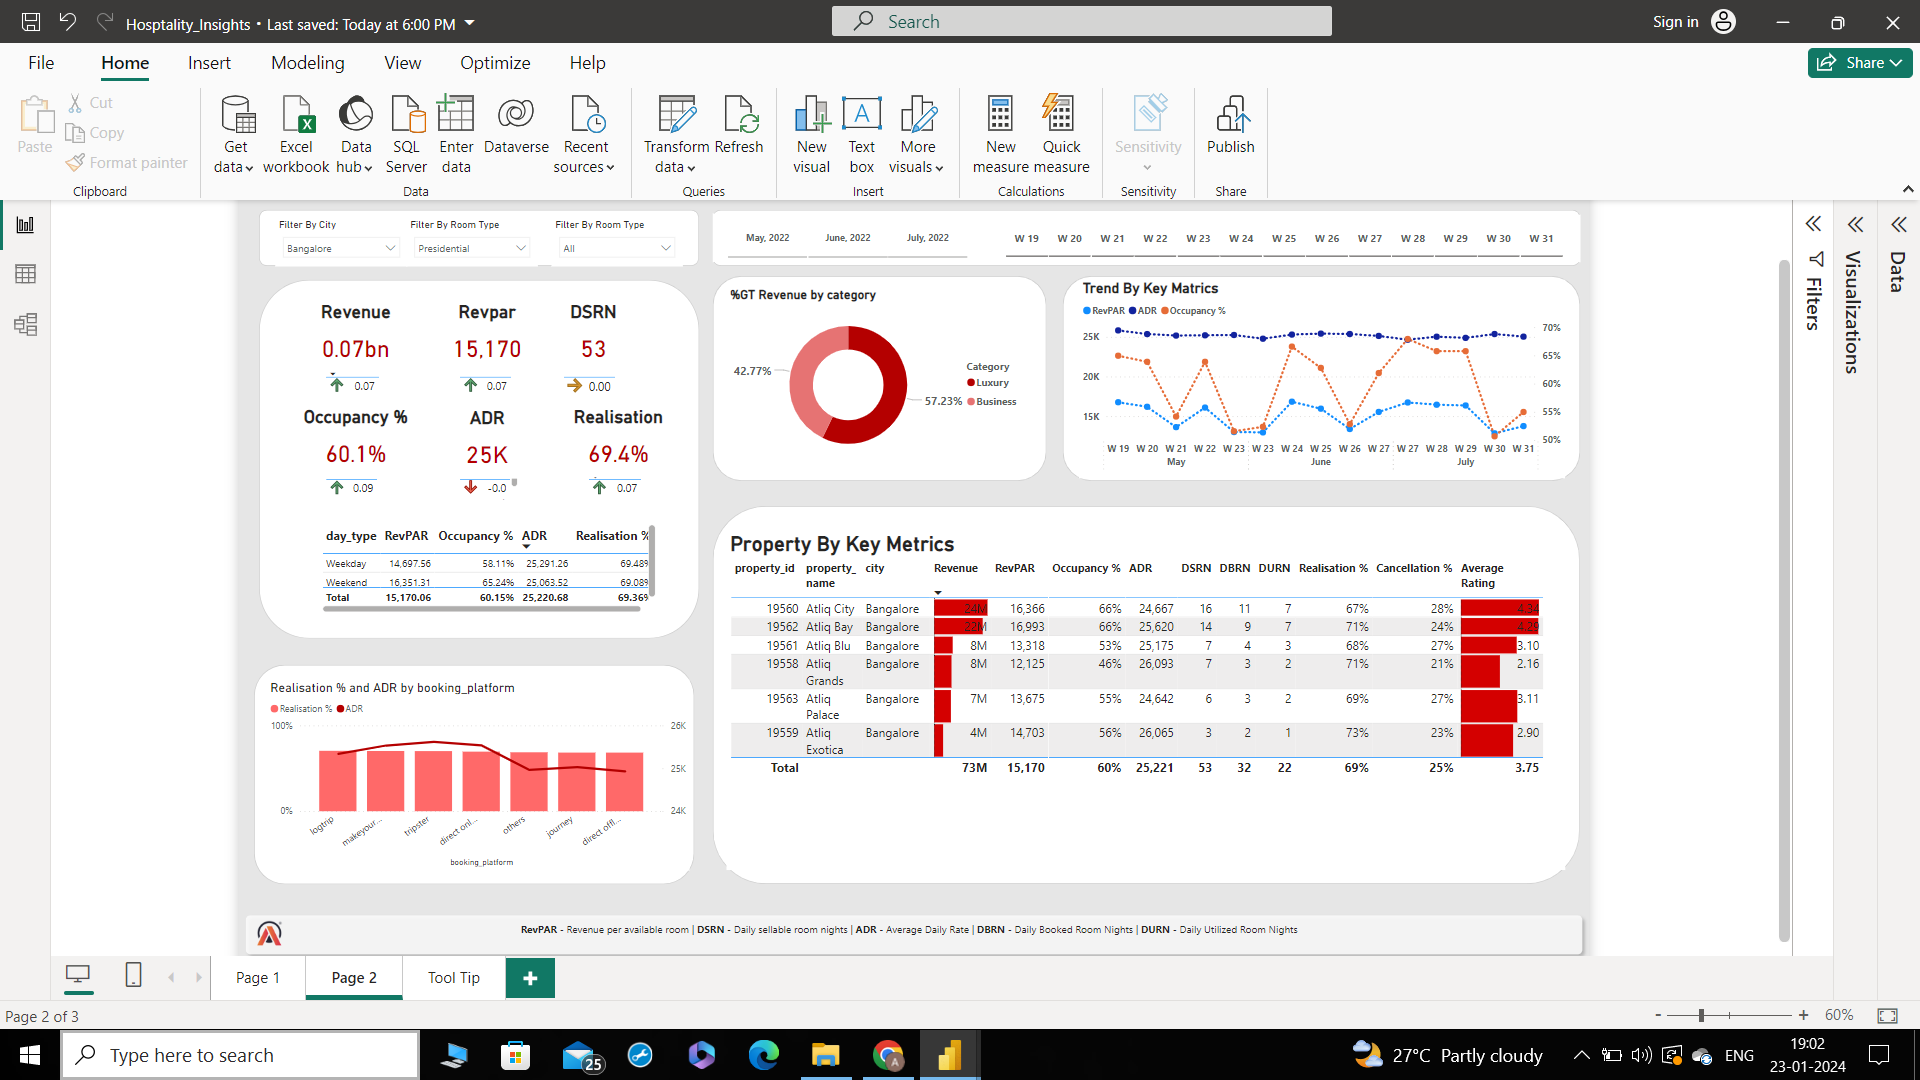

The page's visual inventory and layout, read from the dashboard file:
{"tool":"powerbi","page":{"name":"Page 2","canvas":[1800,1100],"ordinal":1},"visuals":[{"type":"shape","box":[0,1016,1800,70],"z":0},{"type":"shape","box":[20,691.4,587.1,292.9],"z":1000},{"type":"shape","box":[632,480,1156,504],"z":2000},{"type":"shape","box":[1098.3,173.3,690,273.3],"z":3000},{"type":"shape","box":[631.7,173.3,445,273.3],"z":4000},{"type":"shape","box":[631.7,85,1156.7,75],"z":5000},{"type":"shape","box":[27.1,178.6,587.1,478.6],"z":6000},{"type":"shape","box":[26.7,85,586.7,75],"z":7000},{"type":"tableEx","title":"Property By Key Metrics","fields":{"Values":["dim_hotels.property_id","dim_hotels.property_name","dim_hotels.city","key_measures (2).Revenue","key_measures (2).RevPAR","key_measures (2).Occupancy %","key_measures (2).ADR","key_measures (2).DSRN","key_measures (2).DBRN","key_measures (2).DURN","key_measures (2).Realisation %","key_measures (2).Cancellation %"]},"box":[650,515.7,1118.6,450],"z":8000},{"type":"slicer","title":"Filter By City","fields":{"Values":["dim_hotels.city"]},"box":[48,96,176,64],"z":9000},{"type":"slicer","title":"Filter By Room Type","fields":{"Values":["dim_rooms.room_class"]},"box":[417,96,175,64],"z":10000},{"type":"slicer","fields":{"Values":["dim_date.mmm yy"]},"box":[631.7,90,358.3,65],"z":11000},{"type":"slicer","fields":{"Values":["dim_date.week no"]},"box":[996.7,91.7,791.7,63.3],"z":12000},{"type":"tableEx","fields":{"Values":["key_measures (2).\"Revenue WoW change %"]},"box":[110.8,281.5,88.5,57.7],"z":13000},{"type":"donutChart","fields":{"Category":["dim_hotels.category"],"Y":["key_measures (2).Revenue"]},"box":[650,188.3,405,241.7],"z":14000},{"type":"lineStackedColumnComboChart","fields":{"Category":["fact_bookings.booking_platform"],"Y":["key_measures (2).Realisation %"],"Y2":["key_measures (2).ADR"]},"box":[37.1,711.4,564.3,254.3],"z":15000},{"type":"lineChart","title":"Trend By Key Matrics","fields":{"Category":["dim_date.mmm yy.Variation.Date Hierarchy.Month","dim_date.week no"],"Y2":["key_measures (2).Occupancy %"],"Y":["key_measures (2).RevPAR","key_measures (2).ADR"]},"box":[1120,178.3,648.3,265],"z":16000},{"type":"tableEx","fields":{"Values":["dim_date.day_type","key_measures (2).RevPAR","key_measures (2).Occupancy %","key_measures (2).ADR","key_measures (2).Realisation %"]},"box":[105,500,455,126.7],"z":17000},{"type":"slicer","title":"Filter By Room Type","fields":{"Values":["dim_rooms.room_class"]},"box":[224,96,175,64],"z":18000},{"type":"image","box":[0,1028,81.3,42.7],"z":20000},{"type":"textbox","box":[345,1029.6,1093.6,39],"z":21000},{"type":"tableEx","fields":{"Values":["key_measures (2).\"DSRN WoW change %"]},"box":[426.9,281.5,88.5,56.2],"z":22000},{"type":"tableEx","fields":{"Values":["key_measures (2).\"Revpar WoW change %"]},"box":[287.7,281.5,89.2,55.4],"z":23000},{"type":"card","title":"DSRN","fields":{"Values":["key_measures (2).DSRN"]},"box":[384.3,206.8,175,95],"z":24000},{"type":"card","title":"Revpar","fields":{"Values":["key_measures (2).RevPAR"]},"box":[242.7,206.5,175,95],"z":25000},{"type":"card","title":"Revenue","fields":{"Values":["key_measures (2).Revenue"]},"box":[67.7,206.5,175,95],"z":26000},{"type":"tableEx","fields":{"Values":["key_measures (2).\"Occupancy WoW change %"]},"box":[110.8,417.7,88.5,57.7],"z":27000},{"type":"card","title":"Occupancy %","fields":{"Values":["key_measures (2).Occupancy %"]},"box":[67.7,347.5,175,95],"z":28000},{"type":"tableEx","fields":{"Values":["key_measures (2).\"ADR WoW change %"]},"box":[287.7,417.7,88.5,57.7],"z":29000},{"type":"tableEx","fields":{"Values":["key_measures (2).\"Revenue WoW change %"]},"box":[460,418.5,88.5,57.7],"z":30000},{"type":"card","title":"ADR","fields":{"Values":["key_measures (2).ADR"]},"box":[242.7,348.5,175,95],"z":31000},{"type":"card","title":"Realisation","fields":{"Values":["key_measures (2).Realisation %"]},"box":[417.7,347.5,175,95],"z":31500}]}

Visuals, with their boxes on the page's 1800x1100 design canvas (x1, y1, x2, y2). These are canvas units, not pixel positions in the 1920x1080 screenshot, which may show the page scaled, cropped or inside an application window:
shape: <region>0, 1016, 1800, 1086</region>
shape: <region>20, 691, 607, 984</region>
shape: <region>632, 480, 1788, 984</region>
shape: <region>1098, 173, 1788, 447</region>
shape: <region>632, 173, 1077, 447</region>
shape: <region>632, 85, 1788, 160</region>
shape: <region>27, 179, 614, 657</region>
shape: <region>27, 85, 613, 160</region>
"Property By Key Metrics" tableEx: <region>650, 516, 1769, 966</region>
"Filter By City" slicer: <region>48, 96, 224, 160</region>
"Filter By Room Type" slicer: <region>417, 96, 592, 160</region>
slicer - dim_date.mmm yy: <region>632, 90, 990, 155</region>
slicer - dim_date.week no: <region>997, 92, 1788, 155</region>
tableEx - key_measures (2)."Revenue WoW change %: <region>111, 282, 199, 339</region>
donutChart - dim_hotels.category x key_measures (2).Revenue: <region>650, 188, 1055, 430</region>
lineStackedColumnComboChart - fact_bookings.booking_platform x key_measures (2).Realisation %: <region>37, 711, 601, 966</region>
"Trend By Key Matrics" lineChart: <region>1120, 178, 1768, 443</region>
tableEx - dim_date.day_type x key_measures (2).RevPAR: <region>105, 500, 560, 627</region>
"Filter By Room Type" slicer: <region>224, 96, 399, 160</region>
image: <region>0, 1028, 81, 1071</region>
textbox: <region>345, 1030, 1439, 1069</region>
tableEx - key_measures (2)."DSRN WoW change %: <region>427, 282, 515, 338</region>
tableEx - key_measures (2)."Revpar WoW change %: <region>288, 282, 377, 337</region>
"DSRN" card: <region>384, 207, 559, 302</region>
"Revpar" card: <region>243, 206, 418, 302</region>
"Revenue" card: <region>68, 206, 243, 302</region>
tableEx - key_measures (2)."Occupancy WoW change %: <region>111, 418, 199, 475</region>
"Occupancy %" card: <region>68, 348, 243, 442</region>
tableEx - key_measures (2)."ADR WoW change %: <region>288, 418, 376, 475</region>
tableEx - key_measures (2)."Revenue WoW change %: <region>460, 418, 548, 476</region>
"ADR" card: <region>243, 348, 418, 444</region>
"Realisation" card: <region>418, 348, 593, 442</region>
